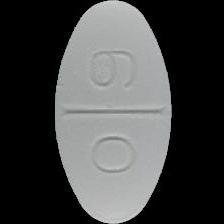50268-757: (0, 0, 224, 224)
